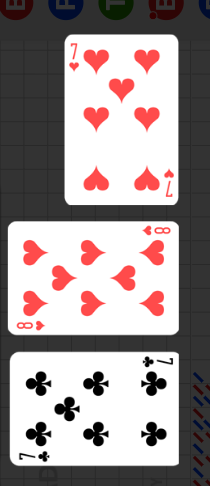7C: (140, 355, 174, 370)
7H: (67, 42, 80, 74), (162, 168, 175, 199)
